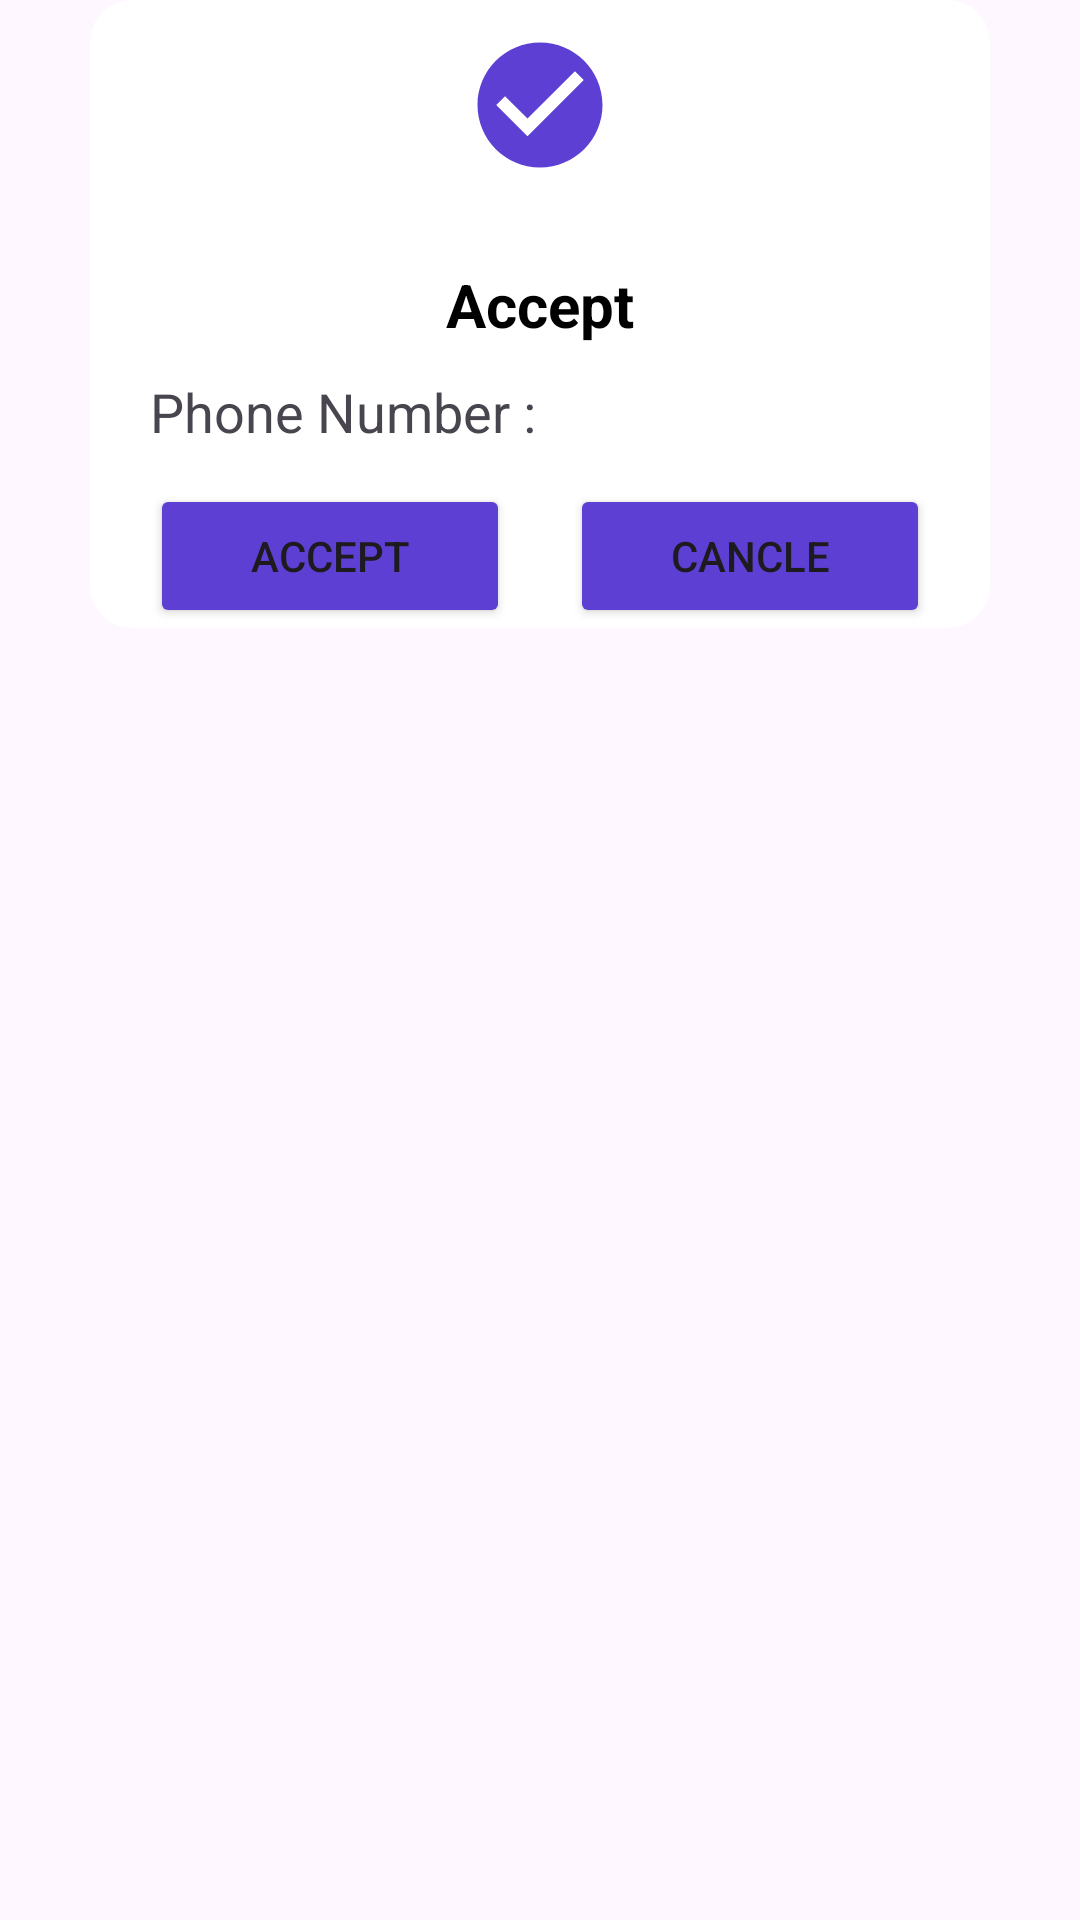

Where icons sit on this 1080 x 1920 app screen, as (left=x1, top=y1, right=x2, bottom=y2):
check circle: (left=477, top=42, right=603, bottom=168)
